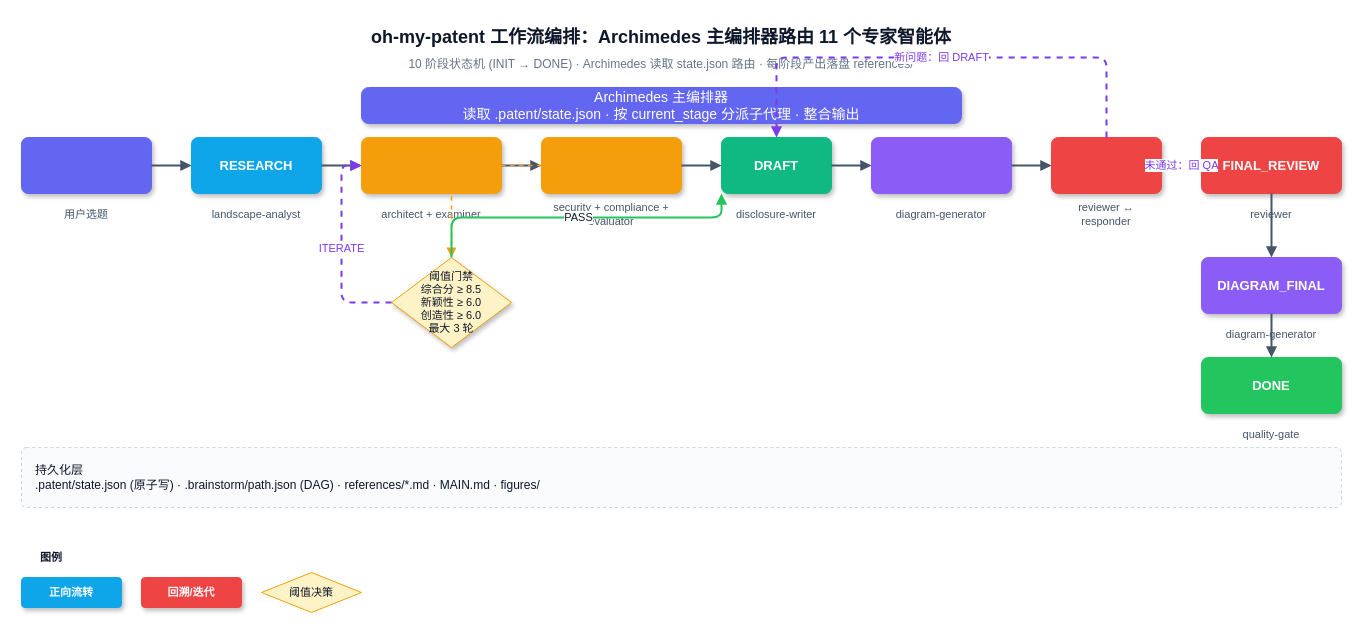
Image size: 1365x632. Some labels were removed from this diagram. The shapes that lost their labels are listed below. From the top down, each one's centre as x and y in pixels, then its label:
the point at 87,166: INIT
the point at 432,166: BRAINSTORM_R1
the point at 612,166: BRAINSTORM_R2
the point at 942,166: DIAGRAM_DRAFT
the point at 1107,166: QA_LOOP
